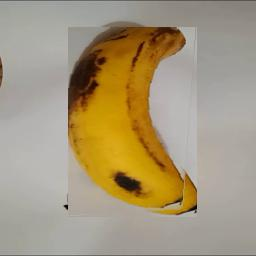Banana Semifresh: (69, 28, 198, 218)
